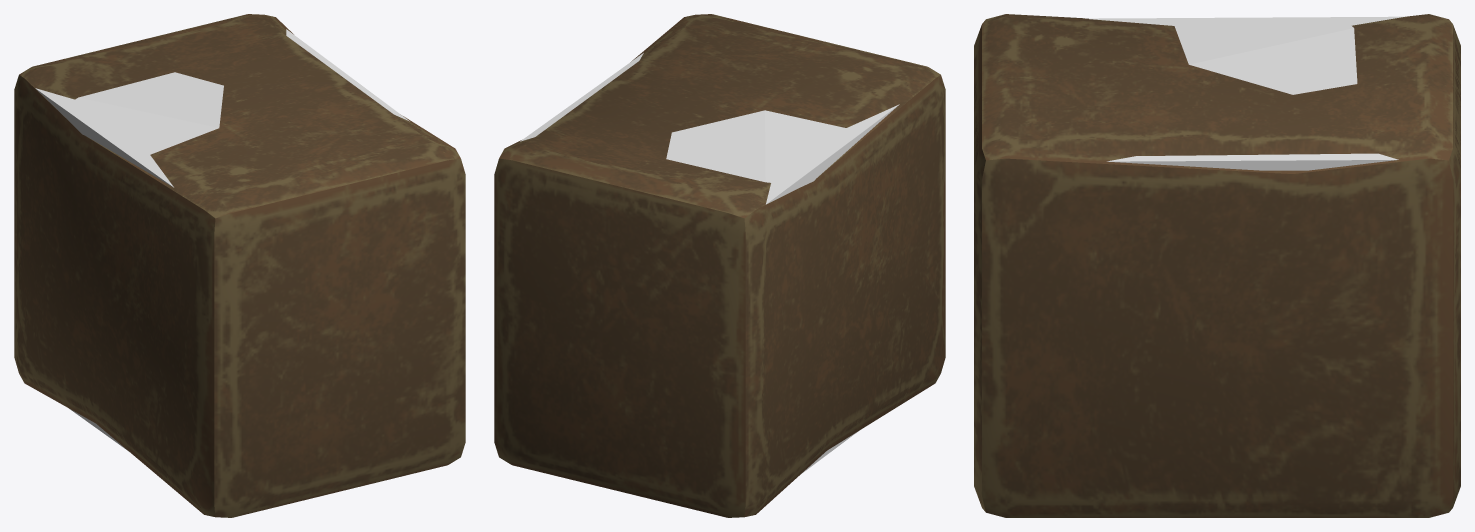
The model's file is SM_Stone.fbx.
The picture shows the model from 3 angles, left to right: view 1: azimuth 30°, elevation 25°; view 2: azimuth 150°, elevation 25°; view 3: azimuth 270°, elevation 25°; orthographic projection. The views are drawn at different scales.
Visible parts, largest first — view 1: SM_Stone_LOD0, SM_Stone_ConvexHulls; view 2: SM_Stone_LOD0, SM_Stone_ConvexHulls; view 3: SM_Stone_LOD0, SM_Stone_ConvexHulls.
Part boxes in pixels (bbox=[...]): SM_Stone_LOD0: bbox=[14, 14, 465, 517]; SM_Stone_ConvexHulls: bbox=[35, 29, 409, 451]; SM_Stone_LOD0: bbox=[494, 14, 945, 517]; SM_Stone_ConvexHulls: bbox=[520, 53, 899, 473]; SM_Stone_LOD0: bbox=[974, 14, 1460, 517]; SM_Stone_ConvexHulls: bbox=[1085, 16, 1404, 170].
Bounding box in the file's own units: 128 × 173 × 147.
1 material, 1 textured.
